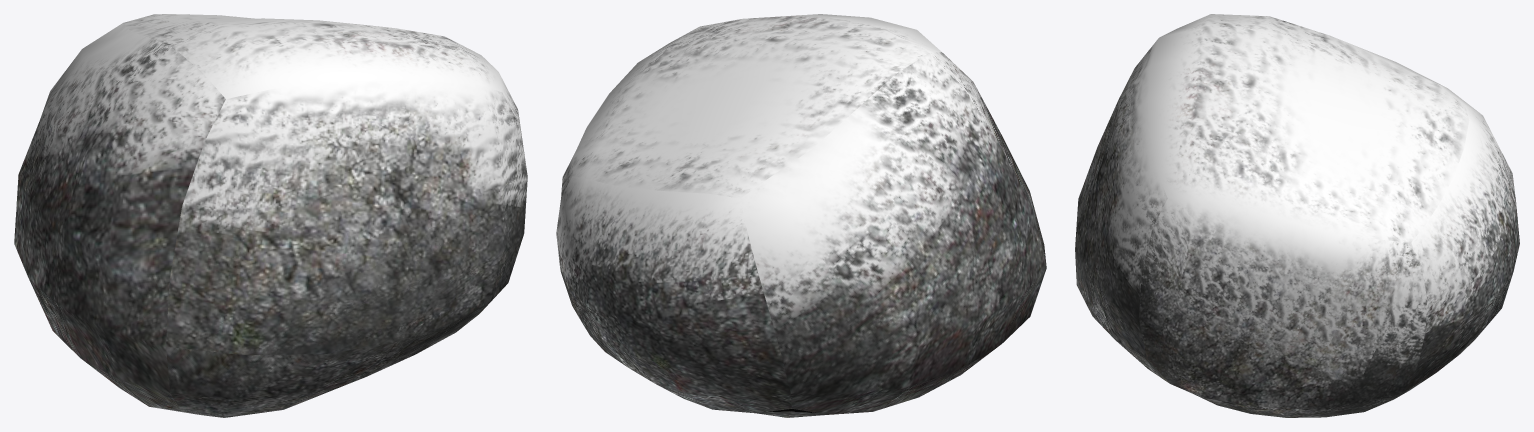
File: Rock_1.fbx
The picture shows the model from 3 angles, left to right: view 1: azimuth 30°, elevation 25°; view 2: azimuth 150°, elevation 25°; view 3: azimuth 270°, elevation 25°; orthographic projection. The views are drawn at different scales.
Parts seen in each view (by area): view 1: pCube1; view 2: pCube1; view 3: pCube1.
Boxes of the visible parts, left/top/right/bottom form: pCube1: left=14, top=14, right=527, bottom=417; pCube1: left=556, top=14, right=1046, bottom=417; pCube1: left=1075, top=14, right=1519, bottom=417.
Size of the model in its own units: 7.92 by 6.22 by 7.77.
Materials: 1 (1 with a texture image).
